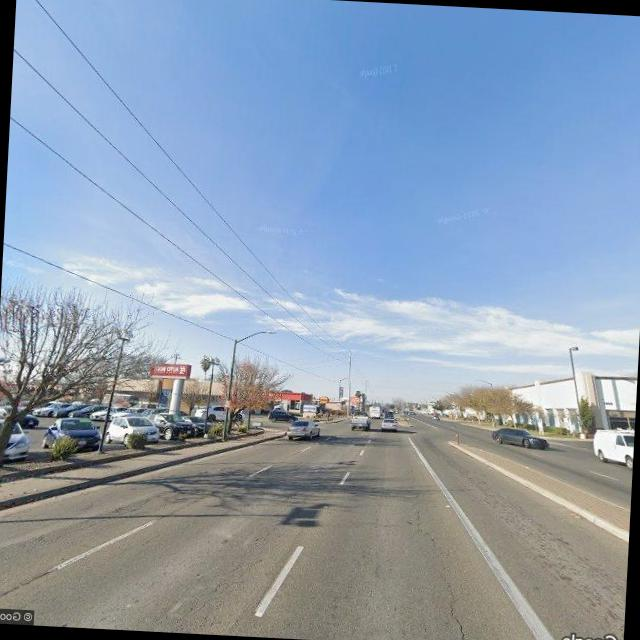crack: (168, 517, 282, 636)
pothole: (403, 502, 484, 640)
